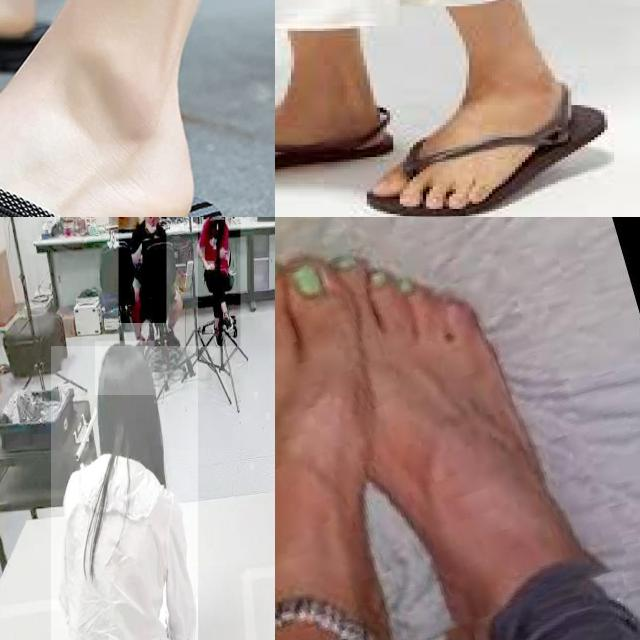Barefoots: (320, 239, 596, 640), (275, 256, 403, 640)
Sandals: (275, 52, 619, 217), (0, 73, 232, 217)
hand_noglove: (204, 260, 215, 270)
head_nohelmet: (95, 341, 155, 396)
person: (51, 346, 198, 640), (198, 217, 241, 347), (118, 217, 167, 324)
